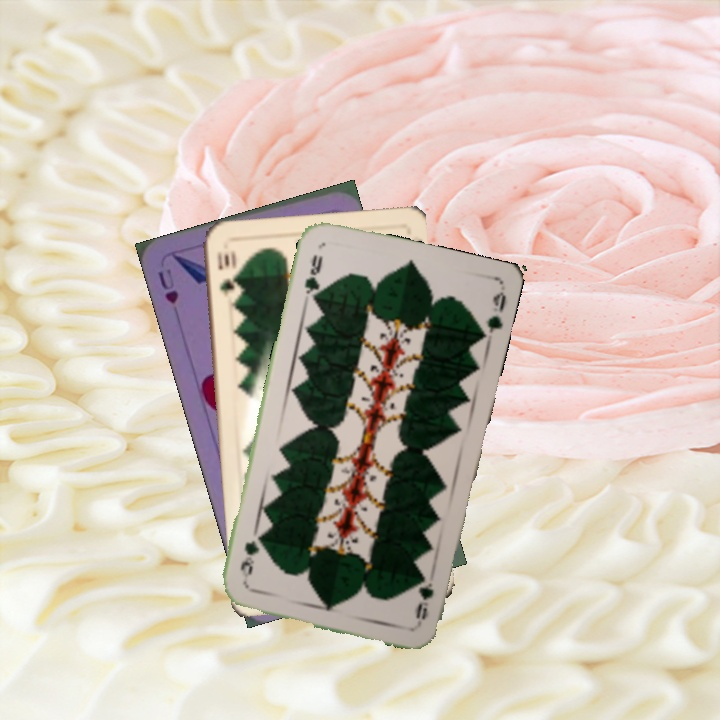G10: (213, 247, 238, 299)
G9: (411, 569, 436, 626), (300, 250, 326, 303)
HU: (154, 264, 181, 307)
